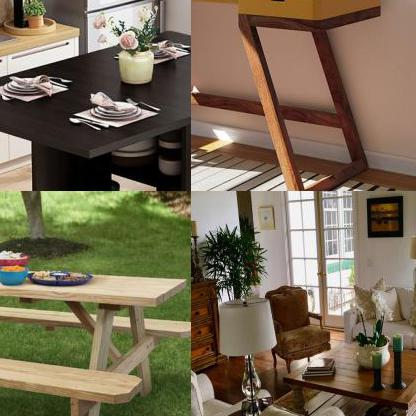table: (191, 0, 388, 190), (0, 24, 190, 190), (0, 259, 190, 415), (277, 334, 415, 415)
